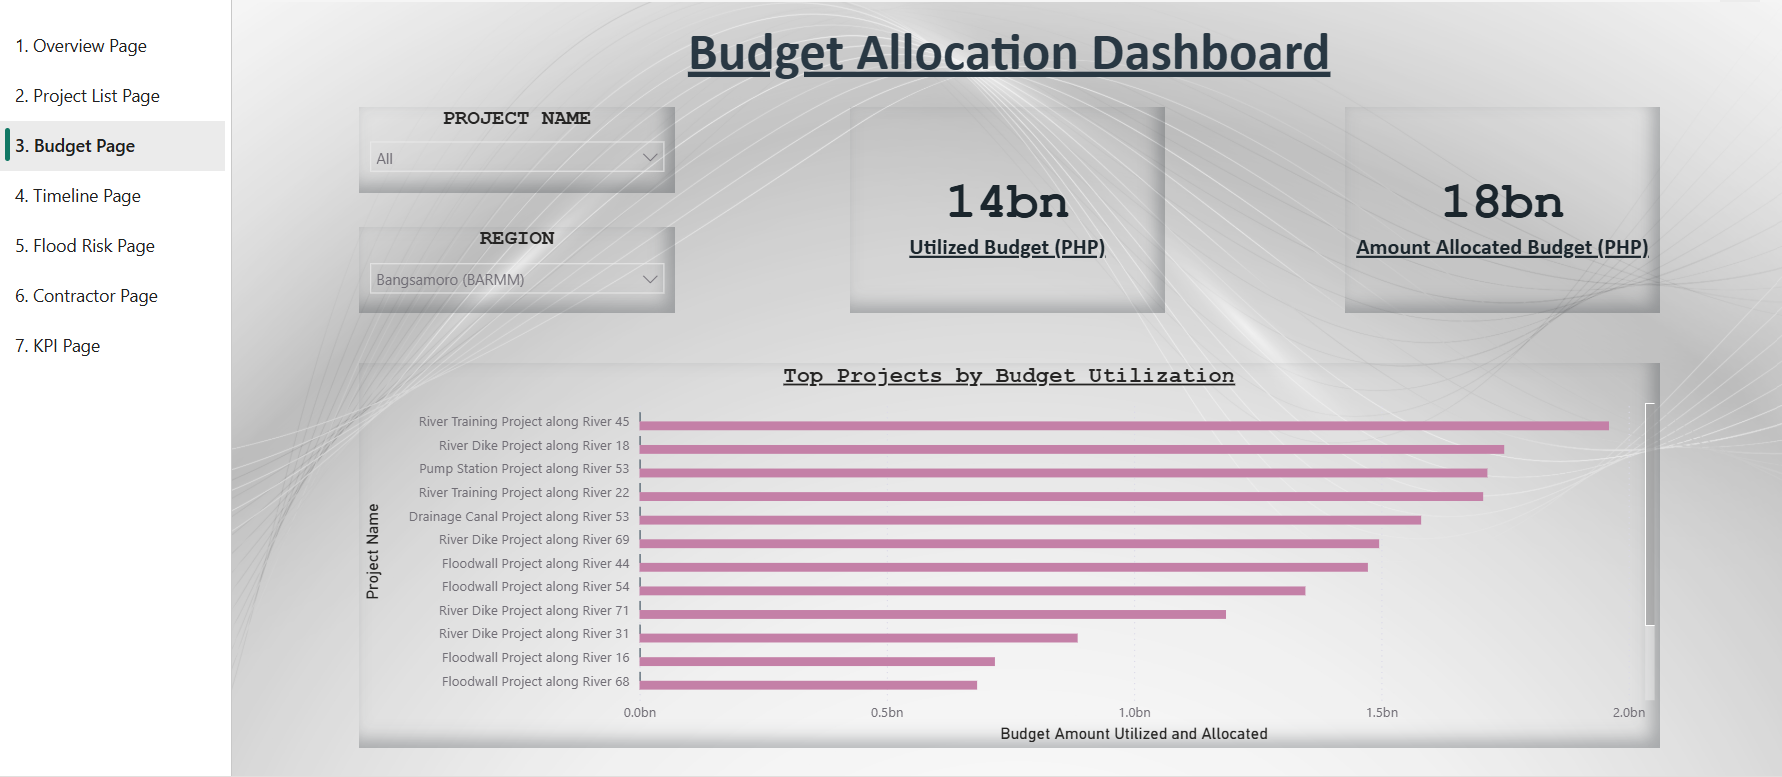

The page's visual inventory and layout, read from the dashboard file:
{"tool":"powerbi","page":{"name":"3. Budget Page","canvas":[1280,700],"ordinal":2},"visuals":[{"type":"textbox","box":[52.5,9.7,1175,70],"z":0},{"type":"clusteredBarChart","title":"Top Projects by Budget Utilization","fields":{"Category":["Project_List.Project_Name"],"Y":["CountNonNull(KPI_Summary.utilized_budget_amt)","Budget_Allocation.Total Allocated Budget"]},"box":[52.9,326.2,1175.2,347.4],"z":1000},{"type":"card","fields":{"Values":["Sum(Budget_Allocation.Allocated_Budget (PHP))"]},"box":[943.3,95.2,284.8,186],"z":2000},{"type":"slicer","title":"REGION","fields":{"Values":["KPI_Summary.Region"]},"box":[52.9,203.7,285.6,77.6],"z":3000},{"type":"slicer","title":"PROJECT NAME","fields":{"Values":["Project_List.Project_Name"]},"box":[52.9,95.2,285.6,77.6],"z":4000},{"type":"card","fields":{"Values":["Sum(KPI_Summary.utilized_budget_amt)"]},"box":[497.2,95.2,284.8,186],"z":5000}]}

Visuals, with their boxes on the page's 1280x700 design canvas (x1, y1, x2, y2). These are canvas units, not pixel positions in the 1782x777 screenshot, which may show the page scaled, cropped or inside an application window:
textbox: pyautogui.locateOnScreen(52, 10, 1228, 80)
"Top Projects by Budget Utilization" clusteredBarChart: pyautogui.locateOnScreen(53, 326, 1228, 674)
card - Sum(Budget_Allocation.Allocated_Budget (PHP)): pyautogui.locateOnScreen(943, 95, 1228, 281)
"REGION" slicer: pyautogui.locateOnScreen(53, 204, 338, 281)
"PROJECT NAME" slicer: pyautogui.locateOnScreen(53, 95, 338, 173)
card - Sum(KPI_Summary.utilized_budget_amt): pyautogui.locateOnScreen(497, 95, 782, 281)
